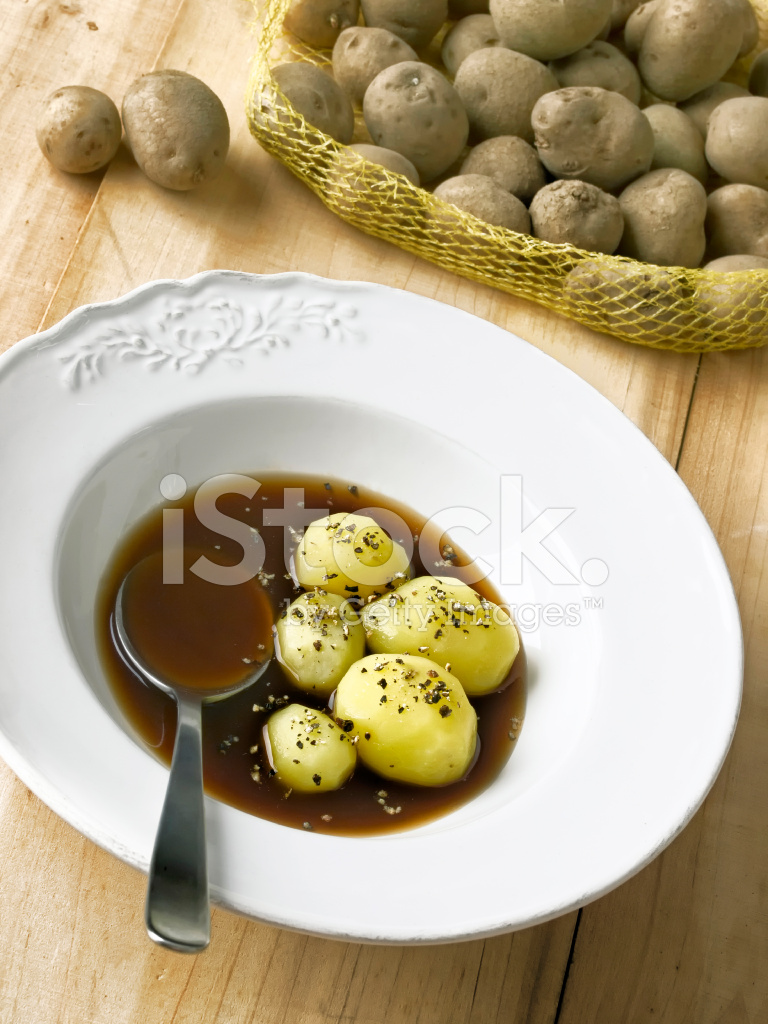boiled potatoes: (332, 644, 499, 798)
